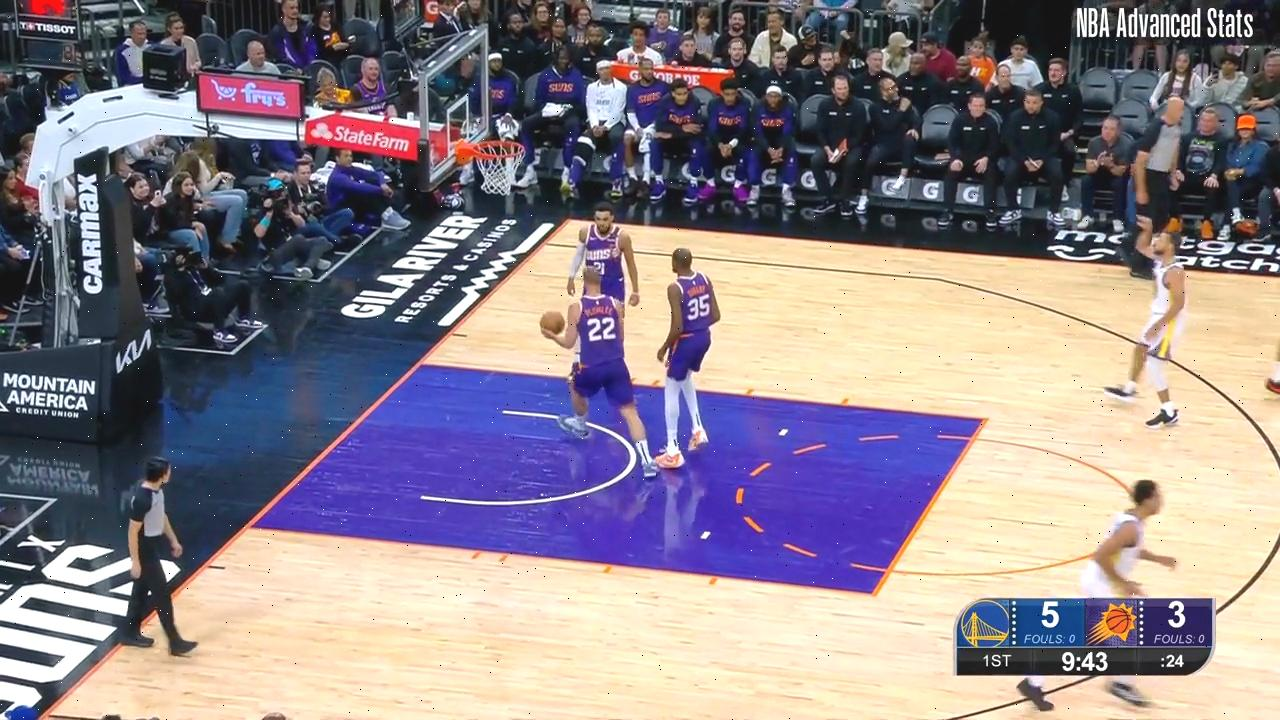basketball: (539, 308, 564, 334)
